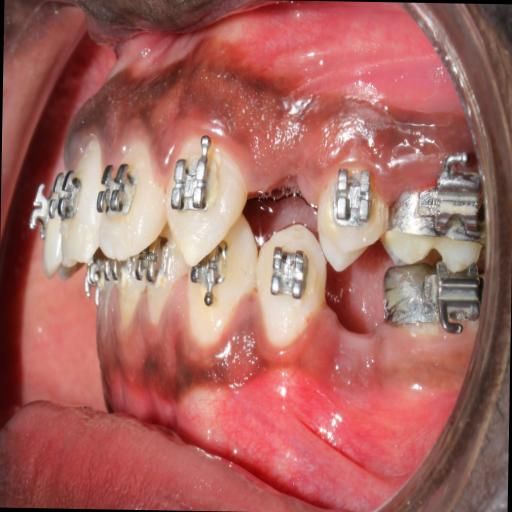correct_brace: (315, 167, 388, 274), (168, 149, 212, 221), (96, 152, 134, 220)
incorrect_brace: (95, 131, 163, 249), (334, 169, 376, 228)
